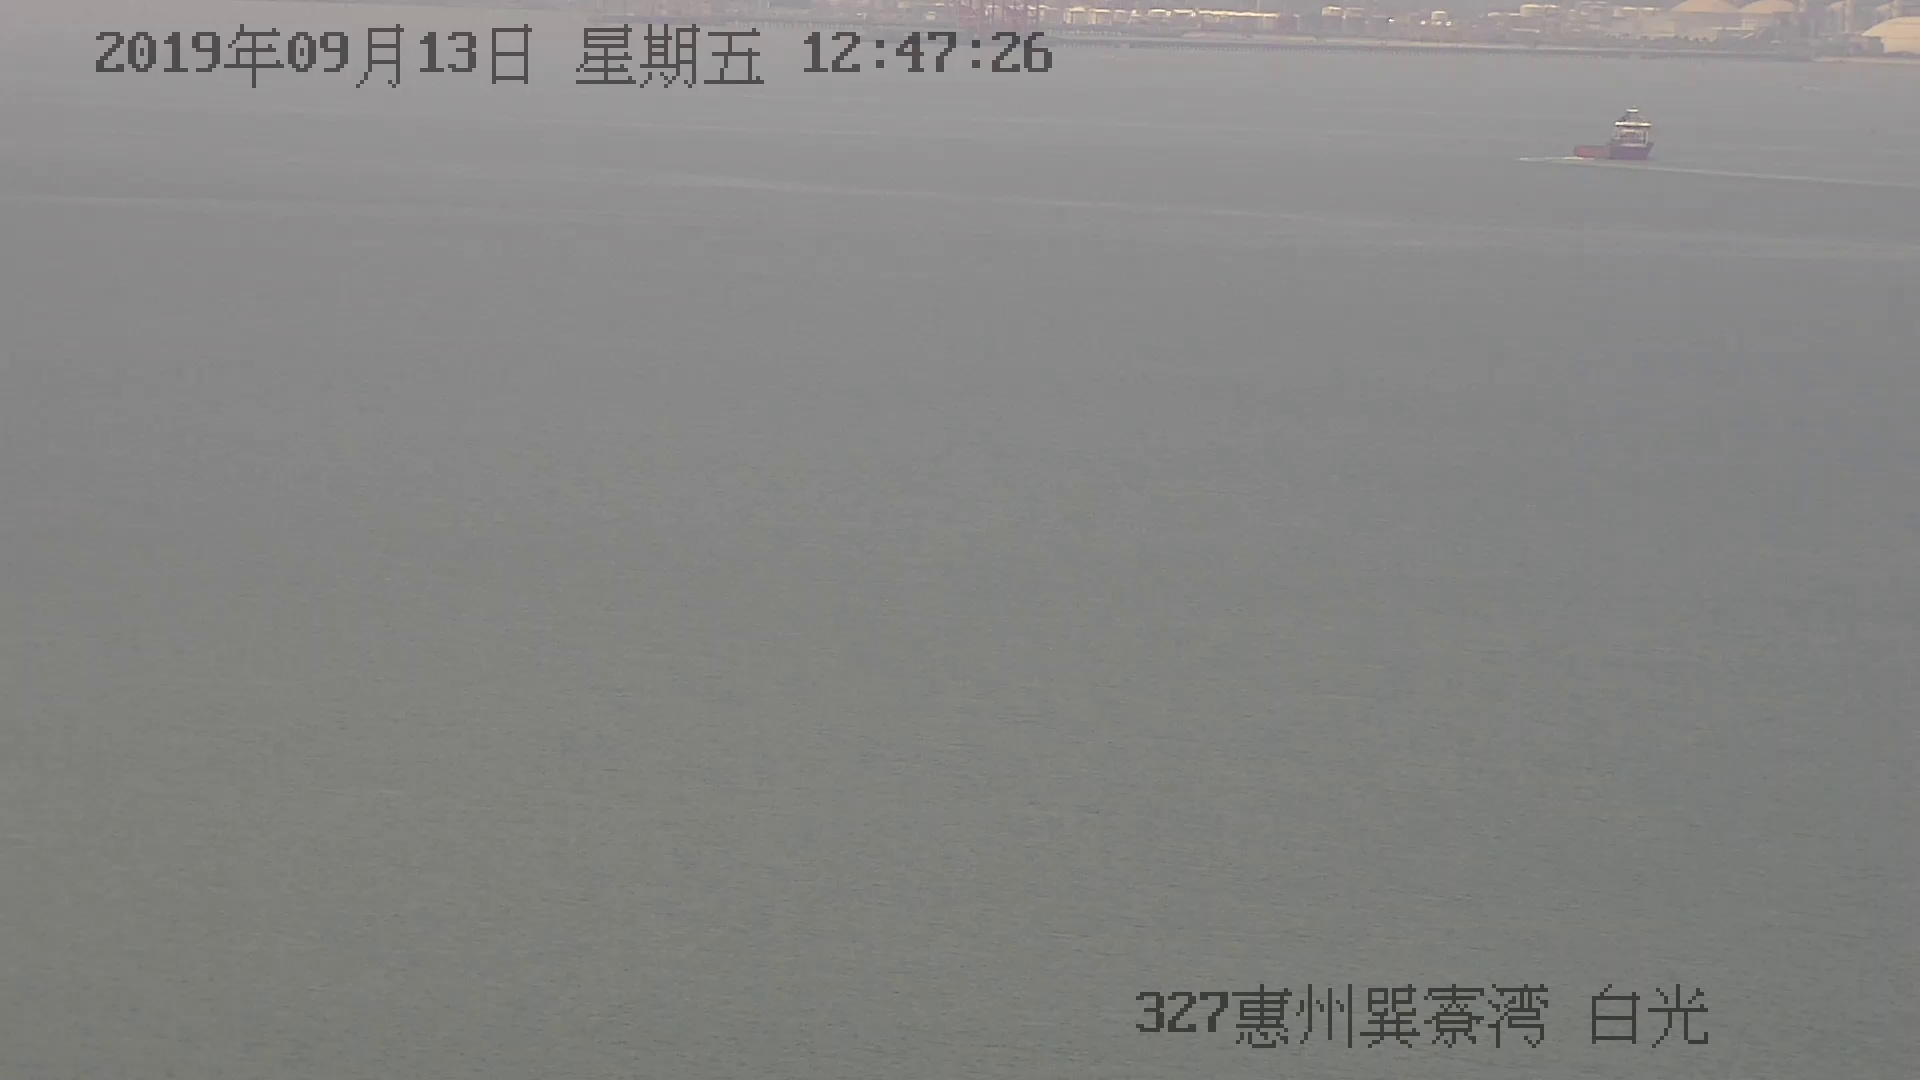ship: (1569, 109, 1654, 162)
